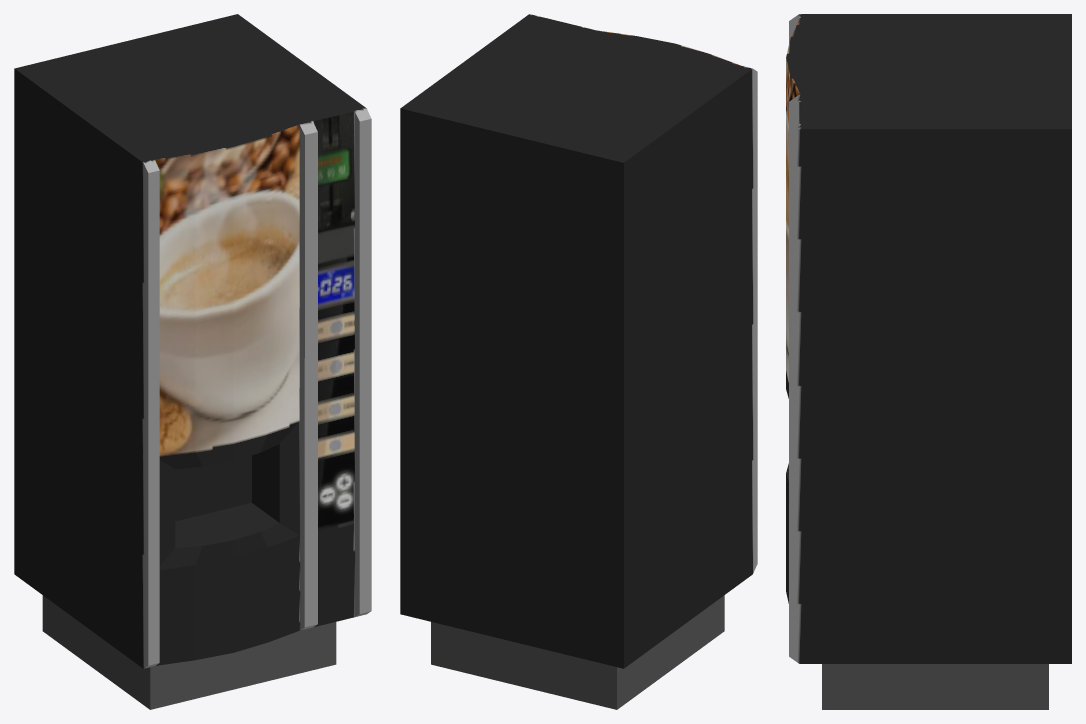
Rendered from MachineCofeePiece.fbx.
3 renders of one model, left to right at view 1: azimuth 30°, elevation 25°; view 2: azimuth 150°, elevation 25°; view 3: azimuth 270°, elevation 25°, orthographic. The views are drawn at different scales.
Visible parts, largest first — view 1: Cube.234; view 2: Cube.234; view 3: Cube.234.
Boxes of the visible parts, <box> form: Cube.234: <box>14,14,371,709</box>; Cube.234: <box>400,14,757,709</box>; Cube.234: <box>786,14,1071,709</box>.
Size of the model in its own units: 408 by 976 by 428.
